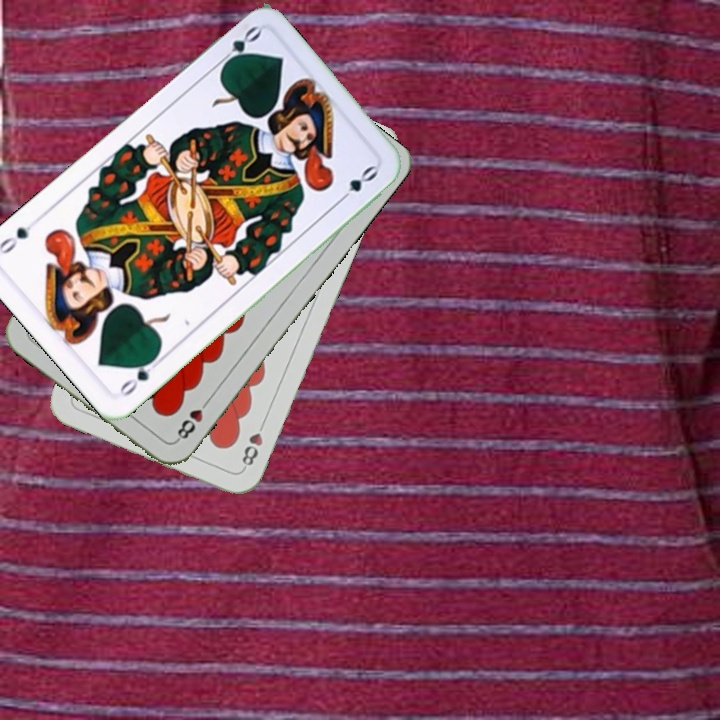GO: (213, 22, 264, 72), (115, 352, 165, 399)
H8: (172, 394, 213, 444), (237, 416, 268, 472)
